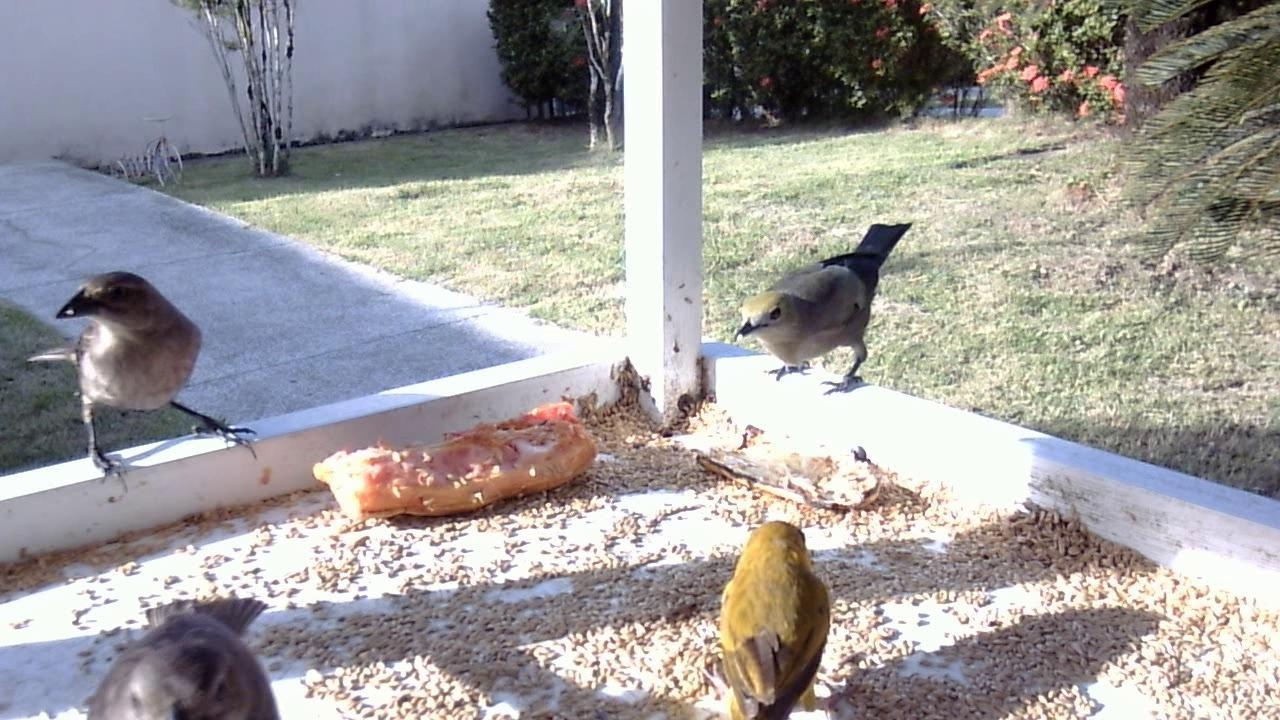canario_do_amazonas: (690, 513, 843, 715)
chupim: (9, 261, 263, 497), (74, 587, 283, 718)
sanhaco_do_coqueiro: (731, 222, 919, 400)
